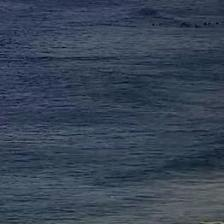surfer: (181, 21, 188, 26), (194, 24, 200, 29), (214, 21, 220, 26), (203, 22, 210, 26), (152, 22, 155, 26)
